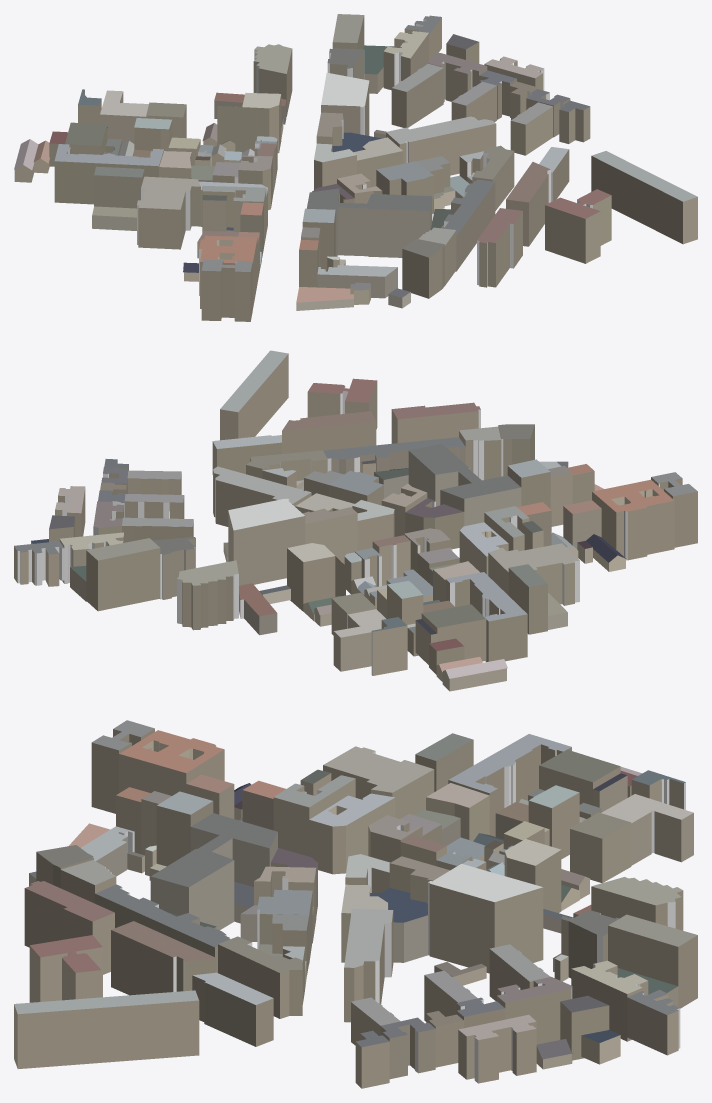
The picture shows the model from 3 angles, top to bottom: view 1: azimuth 30°, elevation 25°; view 2: azimuth 150°, elevation 25°; view 3: azimuth 270°, elevation 25°; orthographic projection. The views are drawn at different scales.
Visible parts, largest first — view 1: tuile; view 2: tuile; view 3: tuile.
Part boxes in pixels (bbox=[...]): tuile: bbox=[14, 14, 697, 321]; tuile: bbox=[14, 350, 697, 691]; tuile: bbox=[14, 720, 697, 1088].
Bounding box in the file's own units: 266 × 33.32 × 253.
